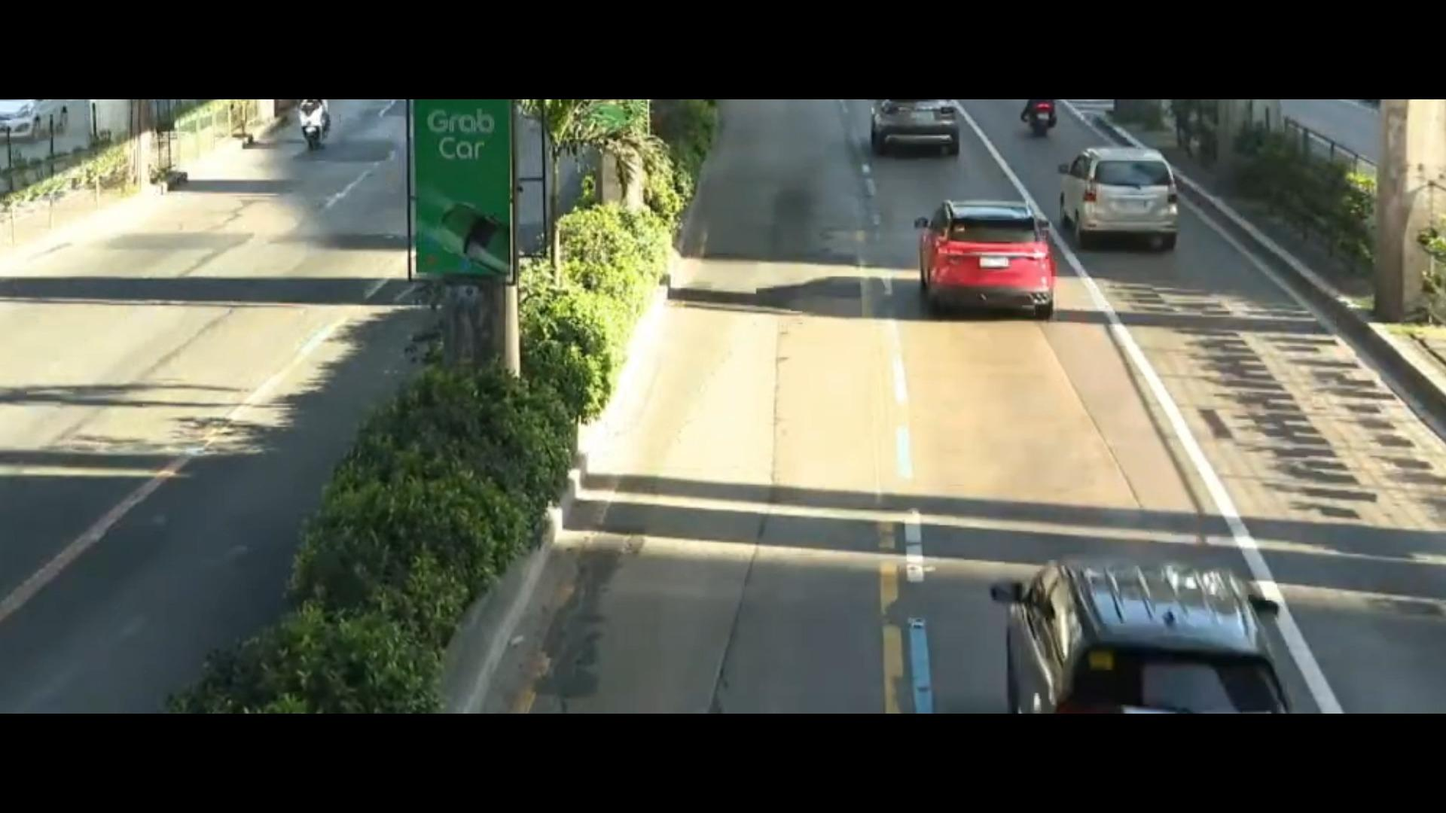Motorcycle: (275, 98, 351, 170)
SUV: (955, 522, 1318, 717), (1057, 136, 1213, 276), (863, 101, 962, 162), (1010, 96, 1070, 137)
Sedan: (882, 185, 1069, 336)
